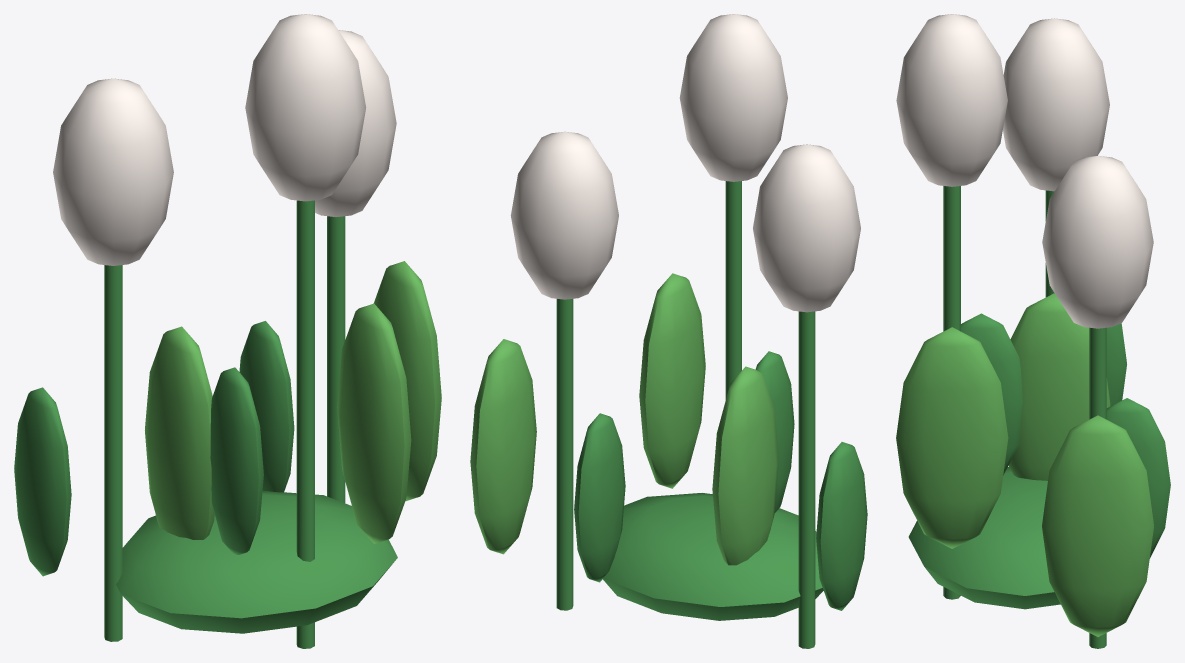
File: tulips_white.glb
3 renders of one model, left to right at view 1: azimuth 30°, elevation 25°; view 2: azimuth 150°, elevation 25°; view 3: azimuth 270°, elevation 25°, orthographic. The views are drawn at different scales.
Visible parts, largest first — view 1: tulips_white; view 2: tulips_white; view 3: tulips_white.
Part boxes in pixels (box(x1,y1,x2,y2)): tulips_white: box(14, 14, 441, 648); tulips_white: box(470, 14, 867, 648); tulips_white: box(896, 14, 1170, 648).
Size of the model in its own units: 0.5955 by 0.8805 by 0.377.
